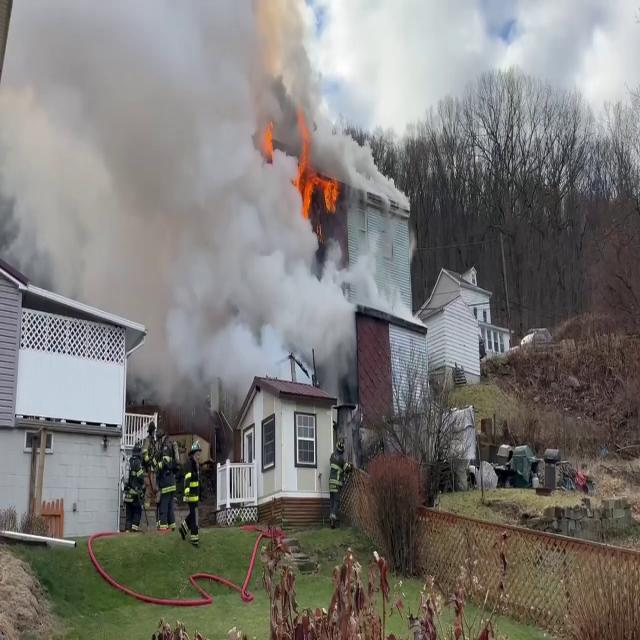Fire: (290, 116, 344, 222)
Smoke: (0, 0, 372, 393)
